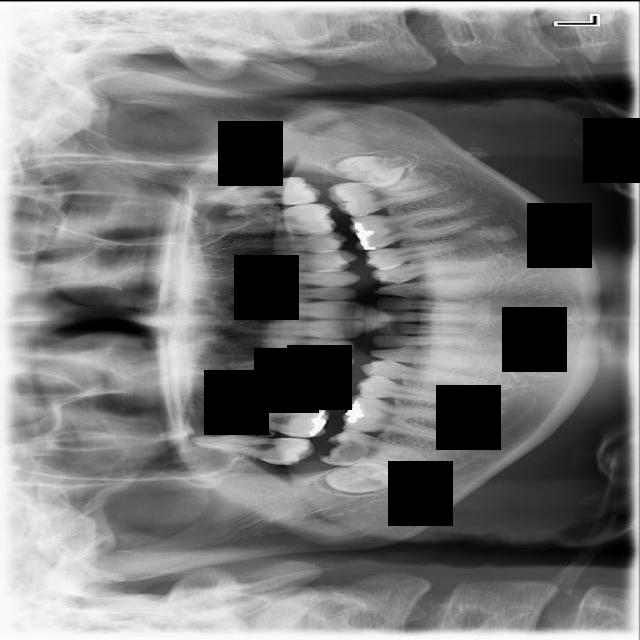52: (337, 386, 393, 444), (347, 204, 401, 255), (346, 204, 399, 255), (279, 401, 330, 439), (325, 437, 369, 462)
73: (552, 28, 556, 31)
BioHorizons Implant: (198, 175, 323, 209)
Biomet 3i Implant: (332, 150, 416, 191)
Blue Sky Bio Implant: (327, 173, 444, 220)
Caries: (192, 433, 315, 465)
Implant: (319, 427, 430, 471)
Keystone Dental Implant: (323, 454, 398, 498)
